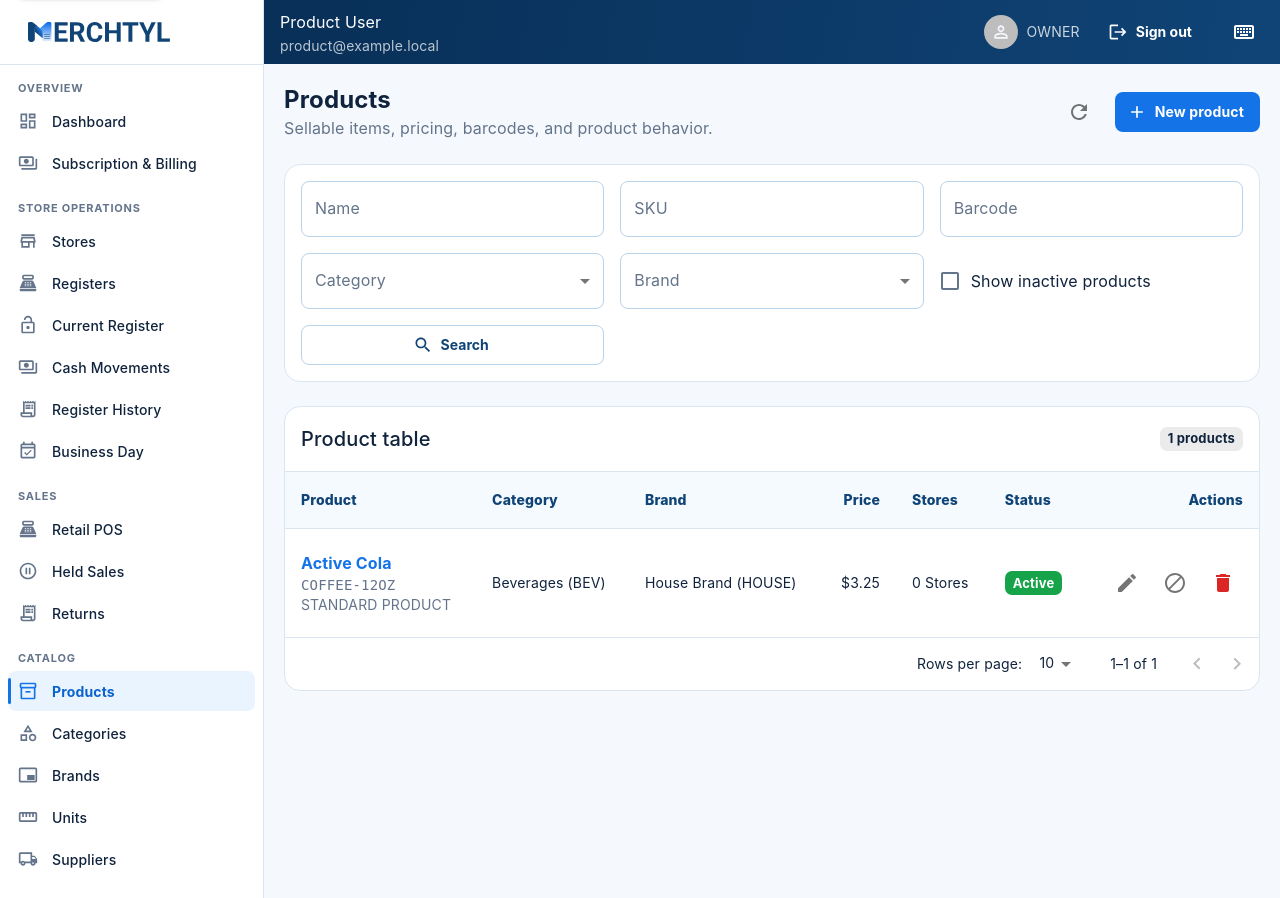
Product pages › defaults to active products and includes inactive products active-first when toggled
This screenshot has width=1280, height=898.
Expected: the text "Active Cola" is shown, top-left (301, 551), bottom-right (392, 575)
Expected: the text "Old Cola" is not shown
Click the checkbox labelled "Show inactive products" at x=1044, y=281, box top-left (938, 269), bottom-right (1151, 293)
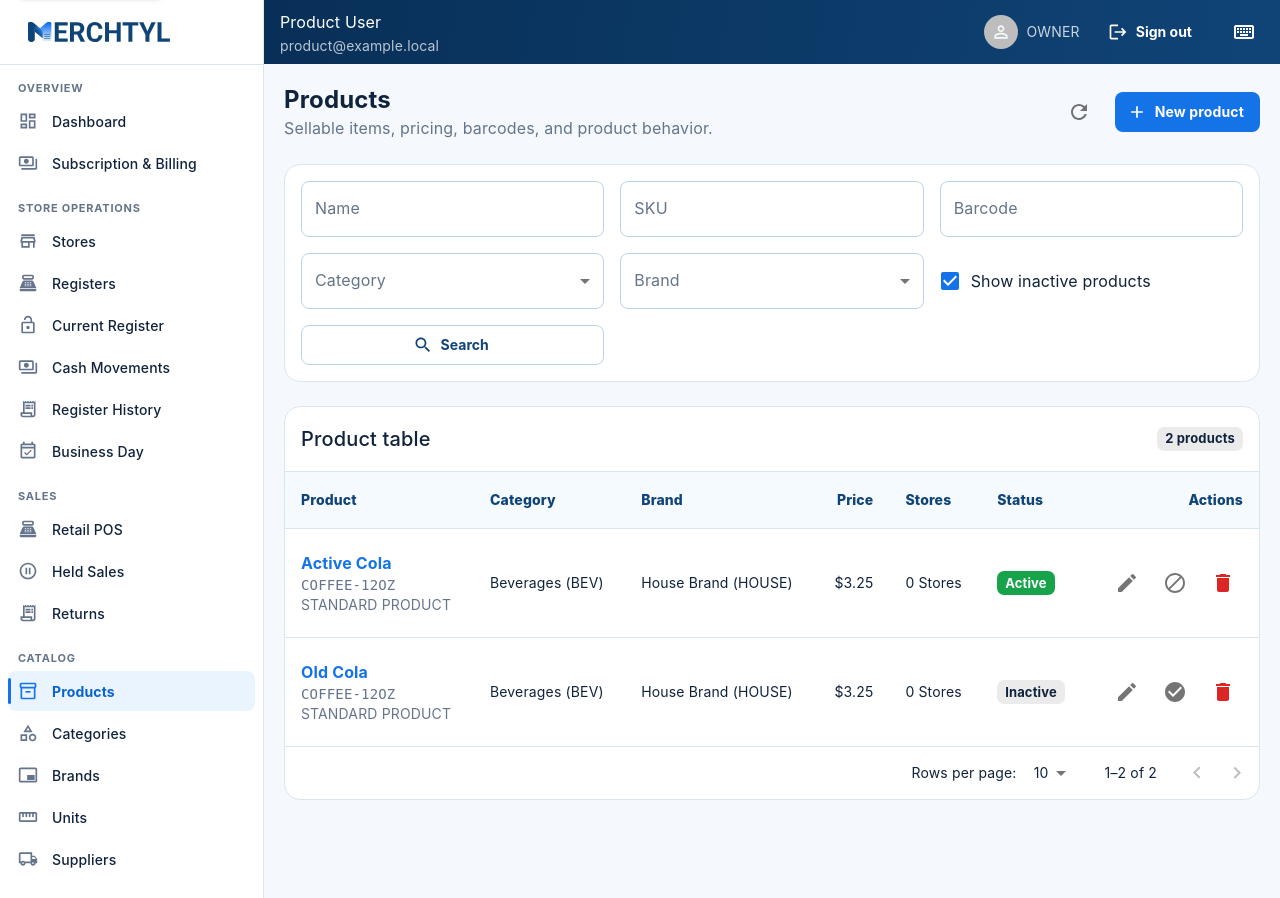
Expected: the row that starts with "Active Cola" is shown, top-left (301, 545), bottom-right (451, 621)
Expected: the text "Old Cola" is shown, top-left (301, 660), bottom-right (368, 684)
Expected: the row that starts with "Old Cola" is shown, top-left (301, 654), bottom-right (451, 730)
